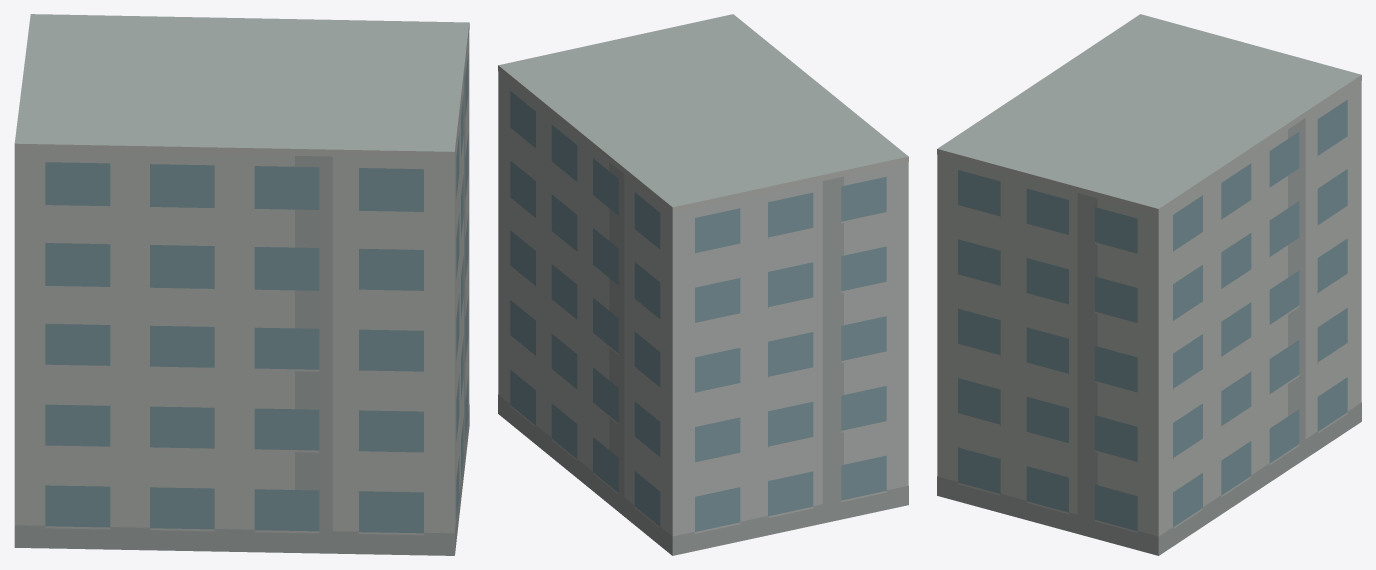
File: survey-upis-32891814.glb
The picture shows the model from 3 angles, left to right: view 1: azimuth 30°, elevation 25°; view 2: azimuth 150°, elevation 25°; view 3: azimuth 270°, elevation 25°; orthographic projection. The views are drawn at different scales.
Visible parts, largest first — view 1: survey-upis-32891814.tmp; view 2: survey-upis-32891814.tmp; view 3: survey-upis-32891814.tmp.
Boxes of the visible parts, left/top/right/bottom form: survey-upis-32891814.tmp: left=14, top=14, right=469, bottom=555; survey-upis-32891814.tmp: left=498, top=14, right=908, bottom=555; survey-upis-32891814.tmp: left=937, top=14, right=1361, bottom=555.
Size of the model in its own units: 17.12 by 14.2 by 15.76.
